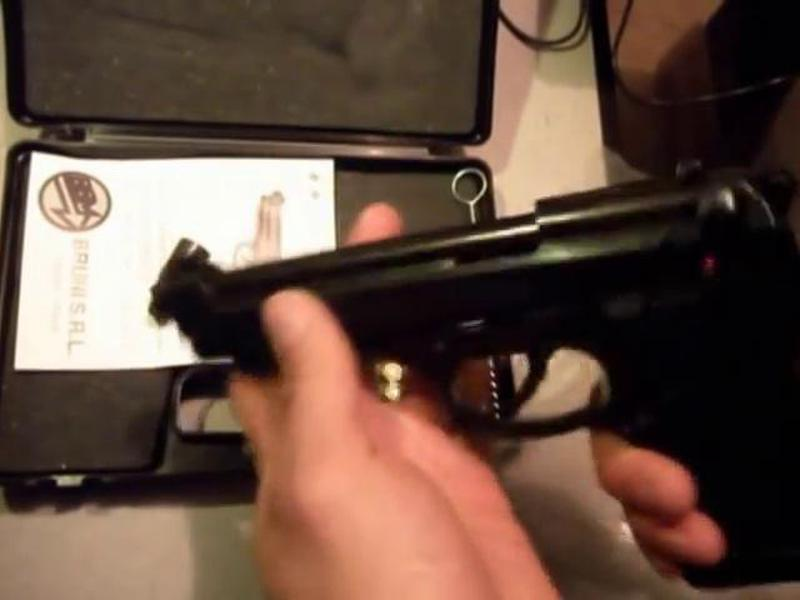Pistola: (162, 143, 800, 582)
